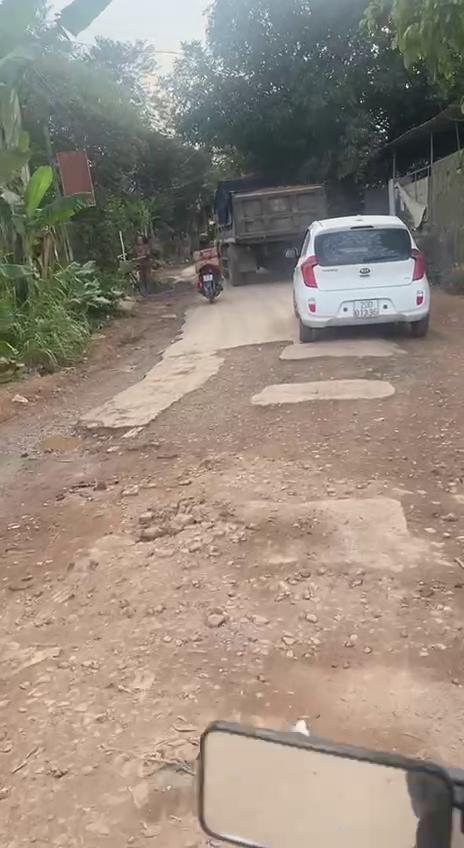pothole: (0, 426, 341, 673), (138, 342, 337, 509), (325, 349, 464, 538)
